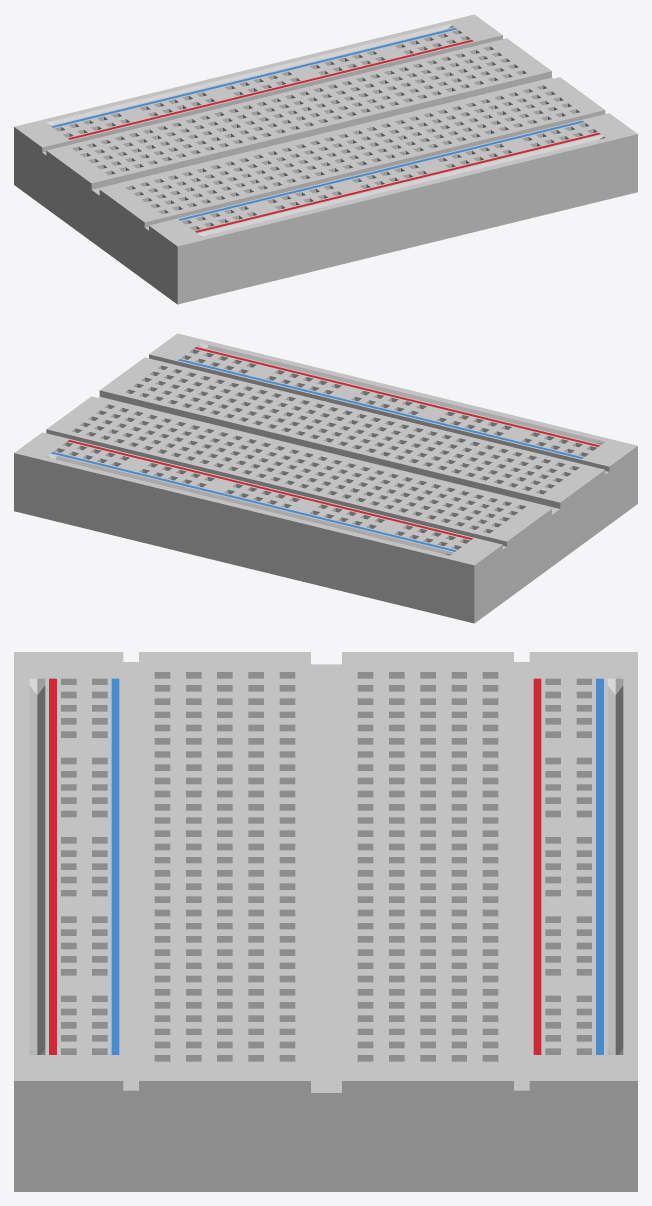
File: BreadboardSmall30R10C.glb
3 views of the same model, one above another, from view 1: azimuth 30°, elevation 25°; view 2: azimuth 150°, elevation 25°; view 3: azimuth 270°, elevation 25° (orthographic). The views are drawn at different scales.
Parts seen in each view (by area): view 1: Breadboard Small 30R x 10C; view 2: Breadboard Small 30R x 10C; view 3: Breadboard Small 30R x 10C.
Boxes of the visible parts, box(x1,y1,x2,y2) form: Breadboard Small 30R x 10C: box(14, 14, 637, 304); Breadboard Small 30R x 10C: box(14, 333, 637, 623); Breadboard Small 30R x 10C: box(14, 652, 637, 1191).
Bounding box in the file's own units: 2.21 × 0.2667 × 1.36.
